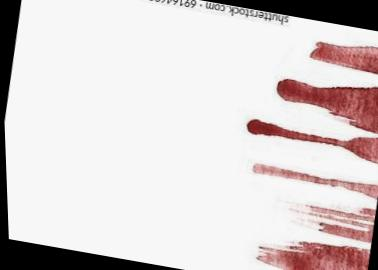Fire: (276, 78, 378, 136), (246, 119, 378, 163), (251, 163, 378, 200), (288, 203, 374, 244), (255, 242, 368, 270), (309, 41, 378, 74)
